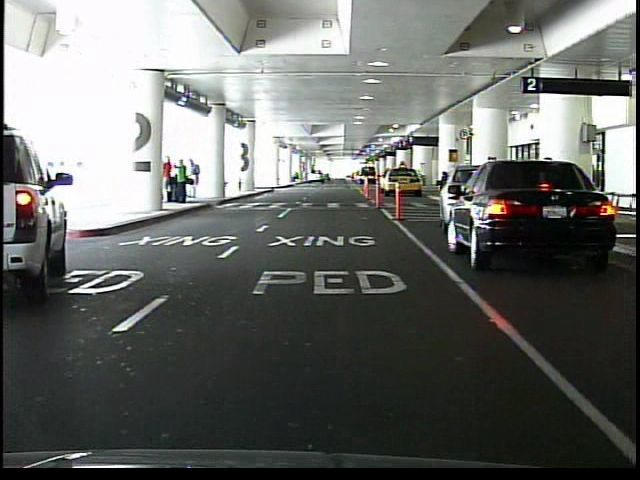person: (175, 160, 189, 205), (164, 154, 175, 205), (188, 159, 201, 200)
